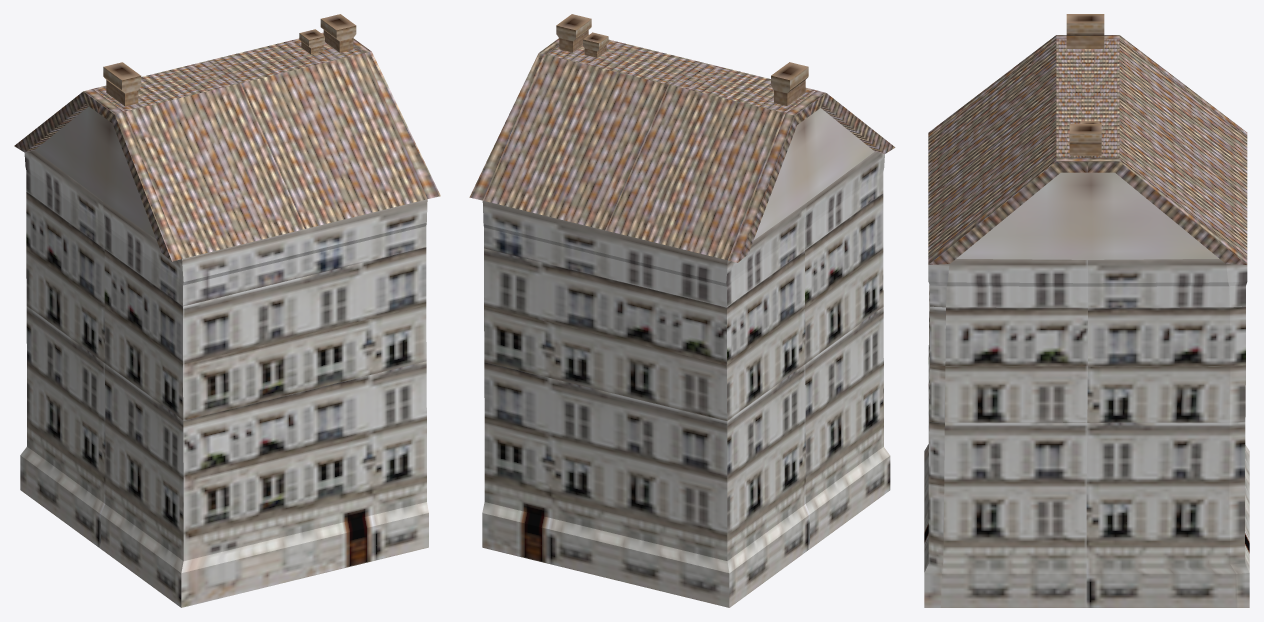
The model's file is Mesh_BuildingTypeB.fbx.
3 views of the same model, side by side, from view 1: azimuth 30°, elevation 25°; view 2: azimuth 150°, elevation 25°; view 3: azimuth 270°, elevation 25° (orthographic).
Visible parts, largest first — view 1: Box004; view 2: Box004; view 3: Box004.
Boxes of the visible parts, <box> form: Box004: <box>14,14,440,607</box>; Box004: <box>469,14,895,607</box>; Box004: <box>924,14,1249,607</box>.
Size of the model in its own units: 518 by 870 by 537.
